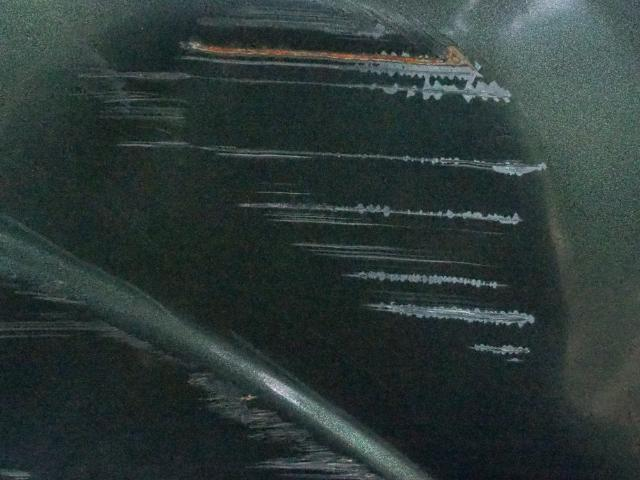rub: (80, 0, 563, 371), (0, 250, 385, 480)
